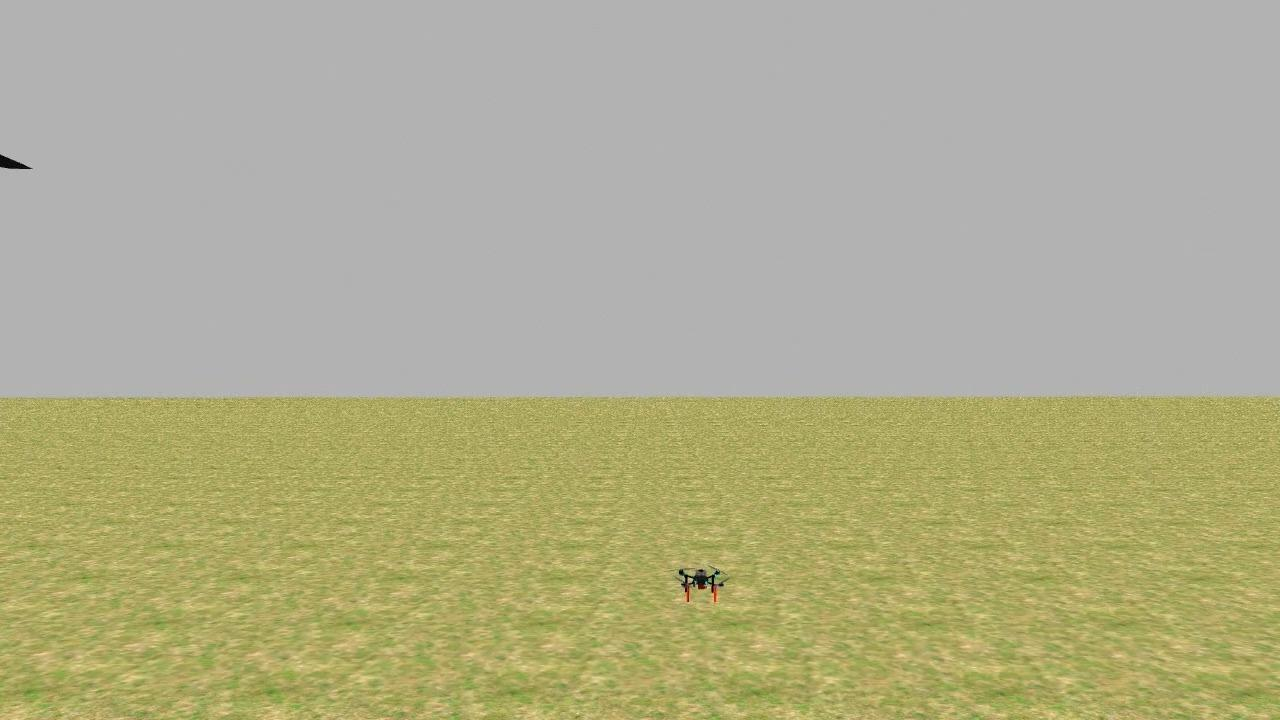UAV: (644, 540, 760, 616)
